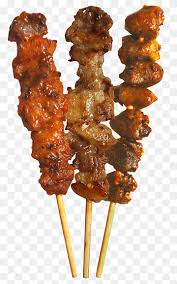Sate ayam: (3, 6, 84, 282), (95, 4, 168, 282), (61, 5, 118, 280)
